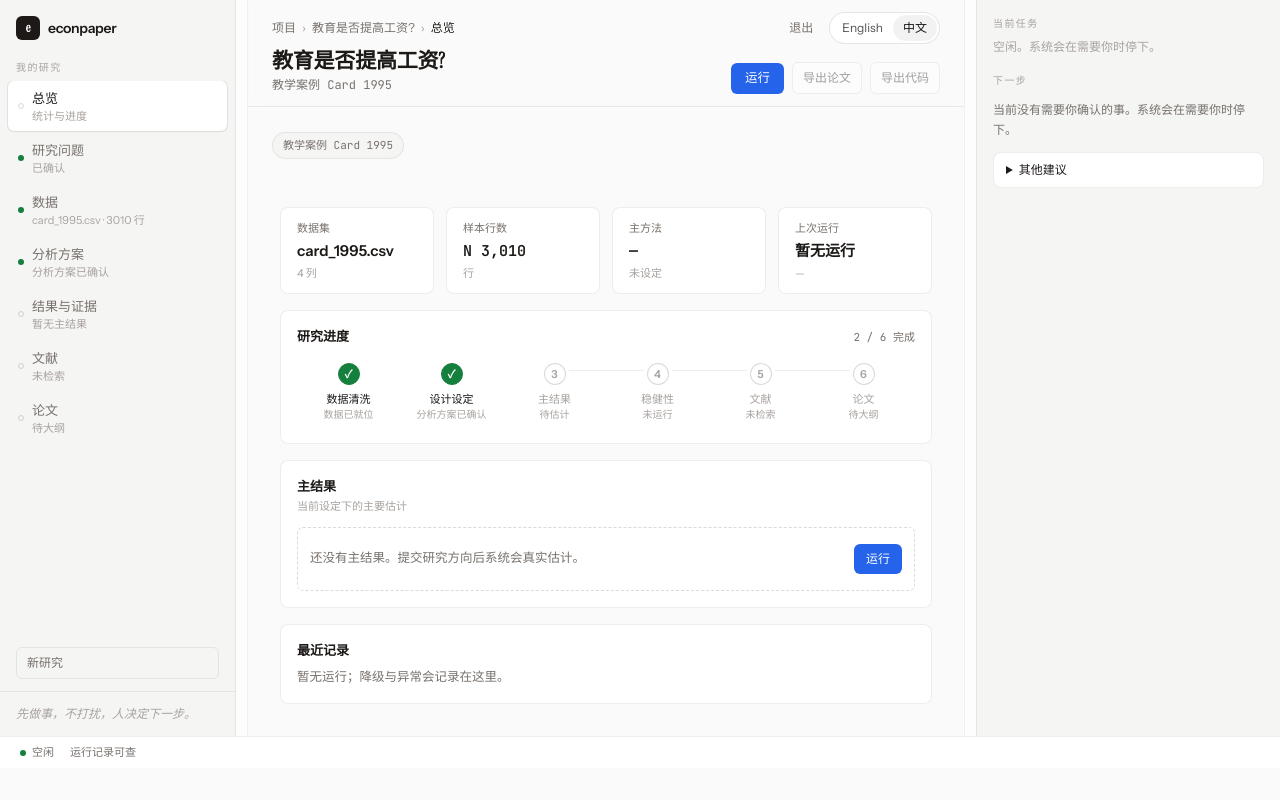
Test: C3 刷新恢复走后端 snapshot › storage 清空后从 snapshot 恢复 specification_runs 与 claim
Expected: the text with test id "project-name" reads "教育是否提高工资?", [312,20,415,35]
Step 1. Click the button with test id "rail-question" → (118, 158), box [8,133,227,183]
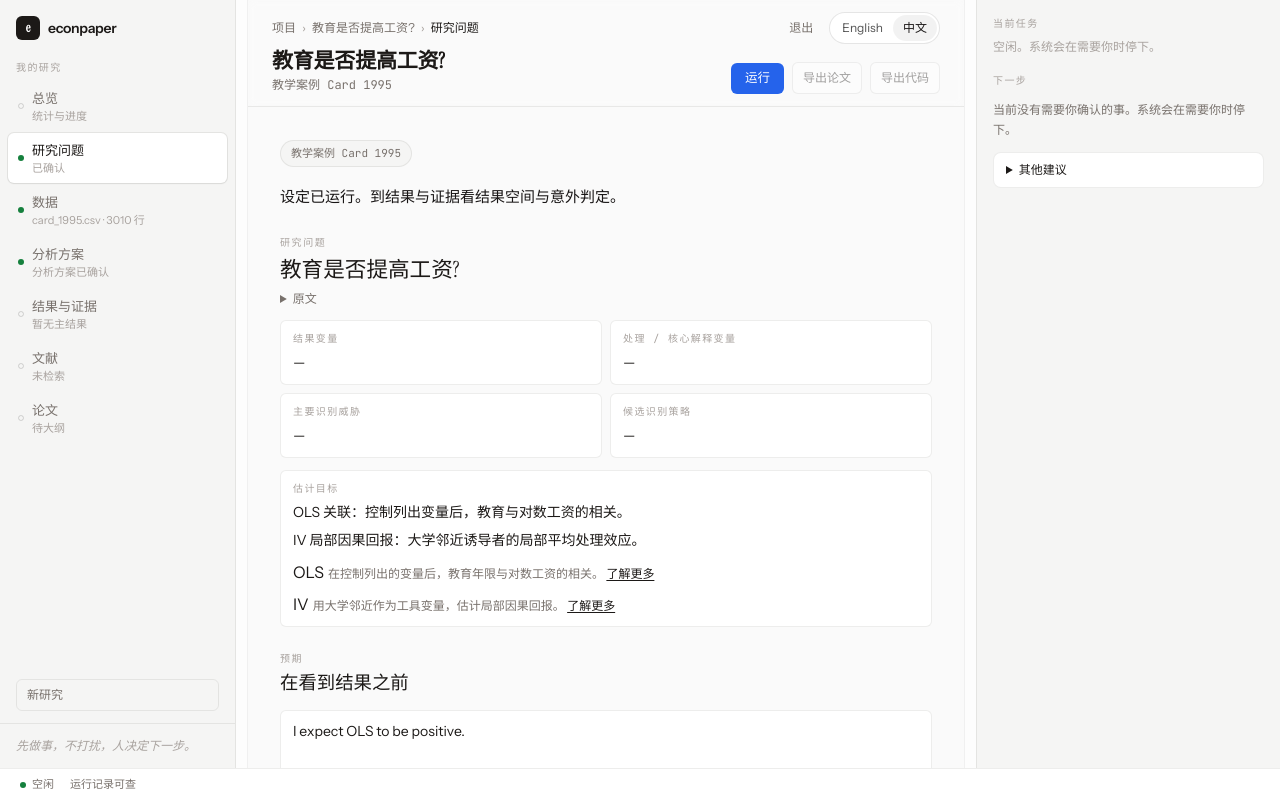
Result: the element with test id "research-question-card" shows "教育是否提高工资?" at [280,256,460,284]
Result: the text box holds "I expect OLS to be positive." at [280,710,932,768]
Step 2. Click the button with test id "rail-evidence" → (118, 314), box [8,289,227,339]
(page scrolled)
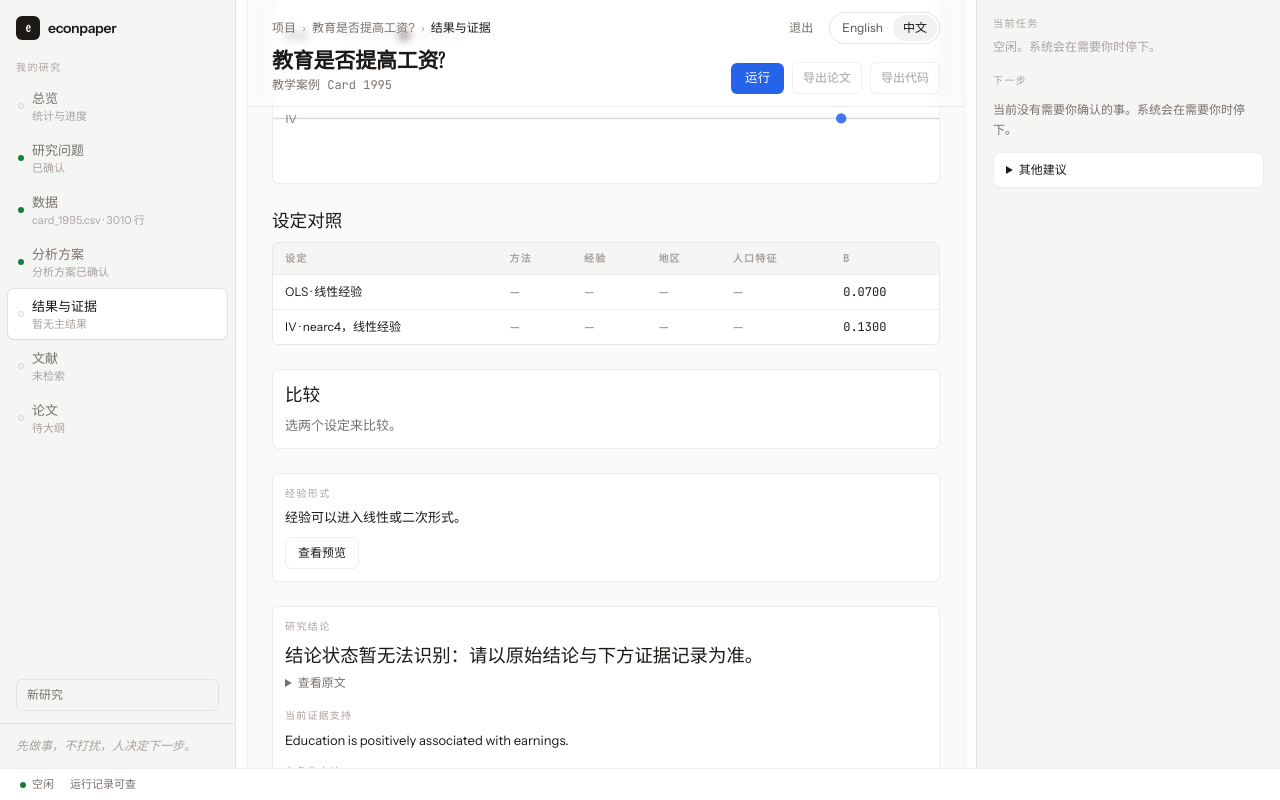
Result: the text with test id "claim-supported" reads "Education is positively associated with earnings." at [285,732,568,748]
Result: the element with test id "evidence-lab" shows "OLS · 线性经验" at [285,284,362,299]
